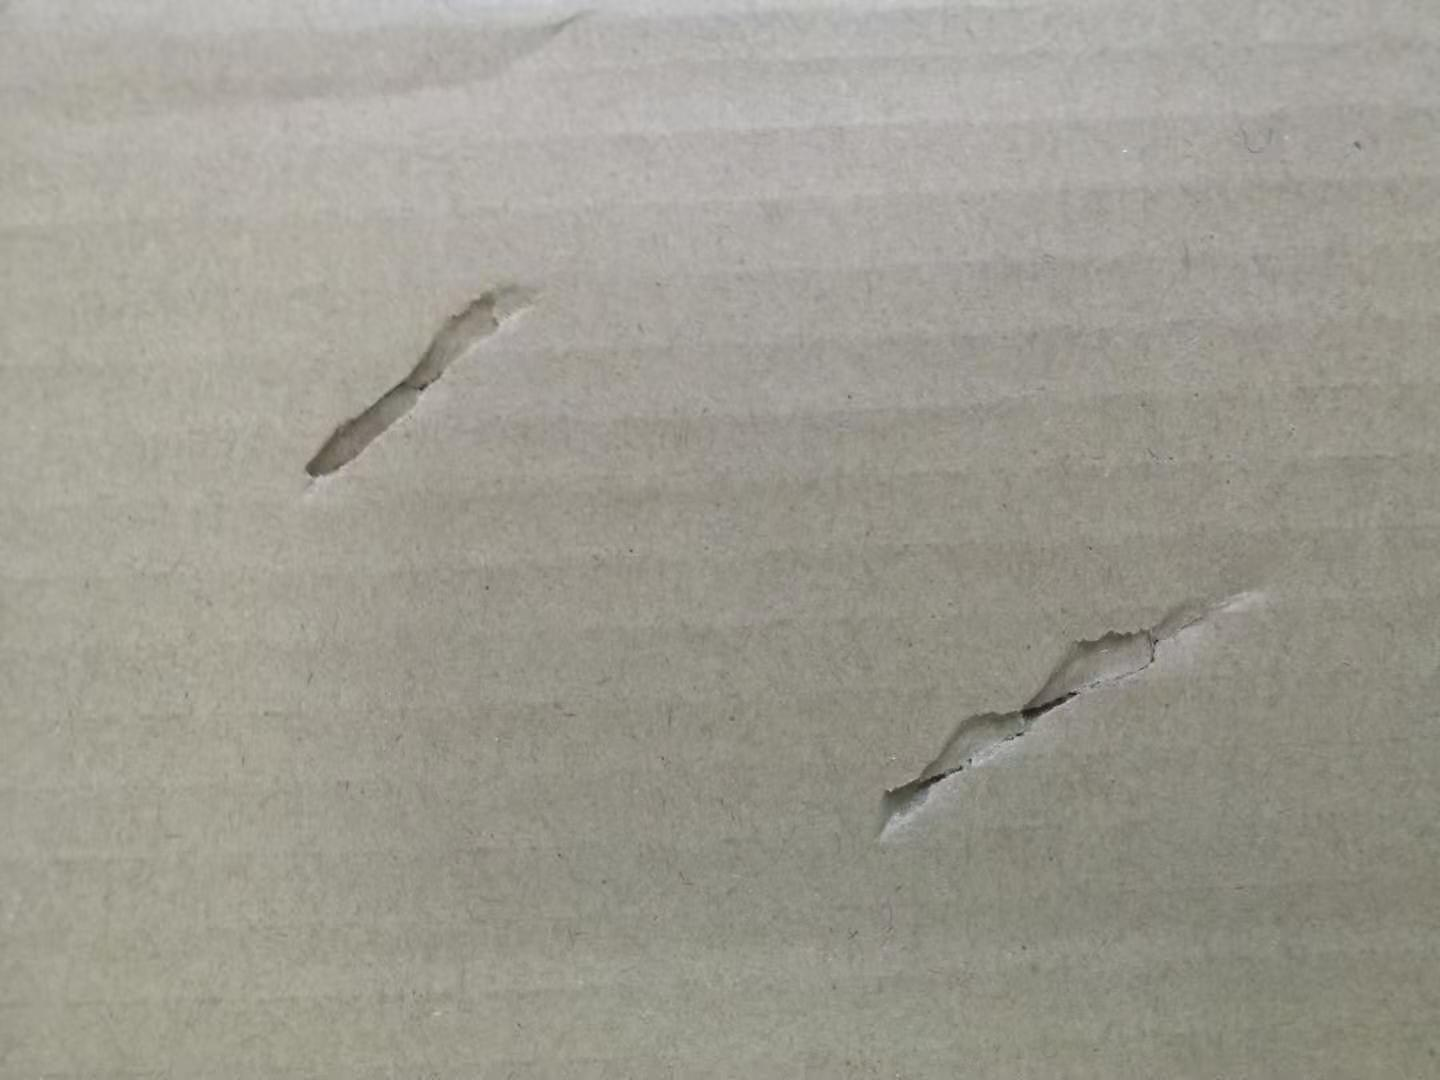defect: (828, 551, 1303, 864), (263, 251, 575, 503)
